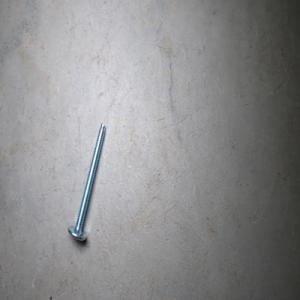Bolt: (66, 122, 106, 241)
